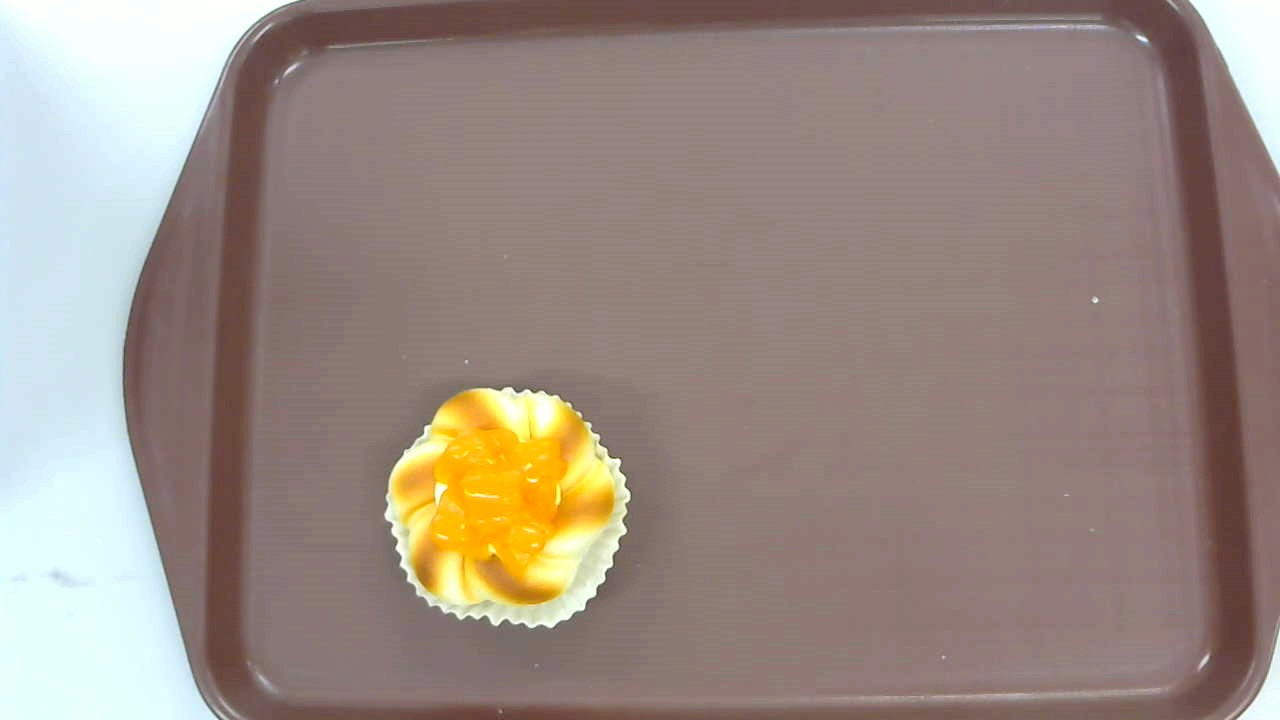mango tart: (383, 384, 631, 629)
